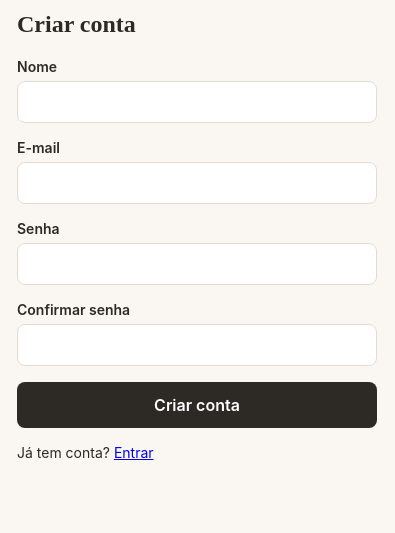
Test case: RegisterPage › exibe mensagem de erro quando o e-mail já está cadastrado
Type "Ana Souza" into the field labelled "Nome".
click(197, 102); type("Ana Souza")  # box [17, 81, 377, 123]
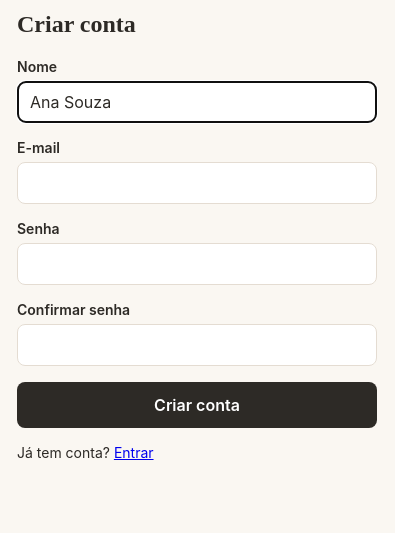
Type "ana@example.com" into the field labelled "E-mail".
click(197, 183); type("ana@example.com")  # box [17, 162, 377, 204]
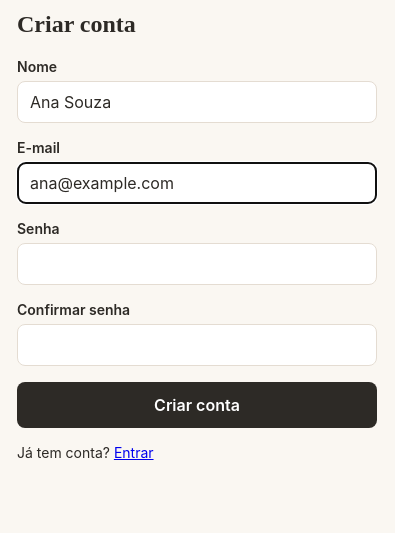
Type "senhaSegura123" into the password field labelled "Senha".
click(197, 264); type("senhaSegura123")  # box [17, 243, 377, 285]
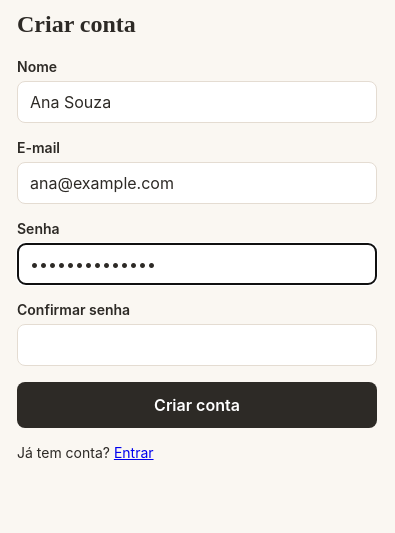
Type "senhaSegura123" into the password field labelled "Confirmar senha".
click(197, 345); type("senhaSegura123")  # box [17, 324, 377, 366]
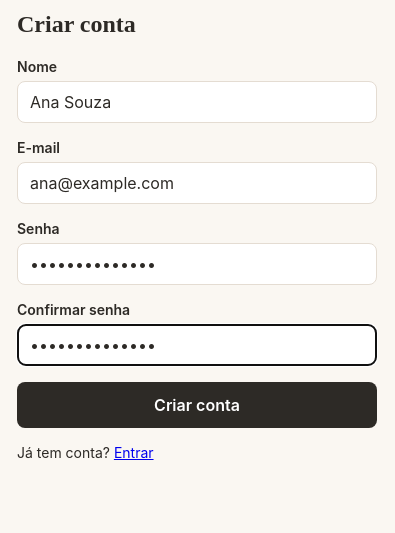
Click the button "Criar conta".
click(197, 405)  # box [17, 382, 377, 428]
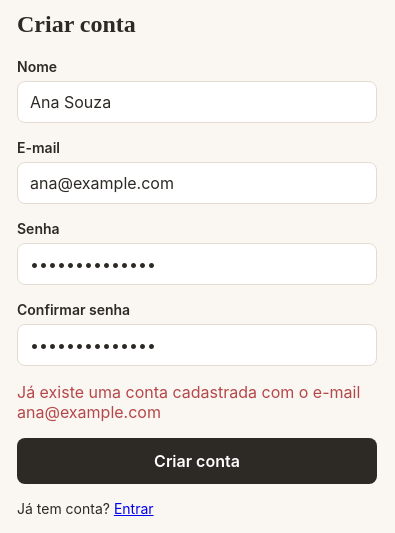
Check: the text "Já existe uma conta cadastrada com o e-mail ana@example.com" is shown, box [17, 382, 377, 422]
